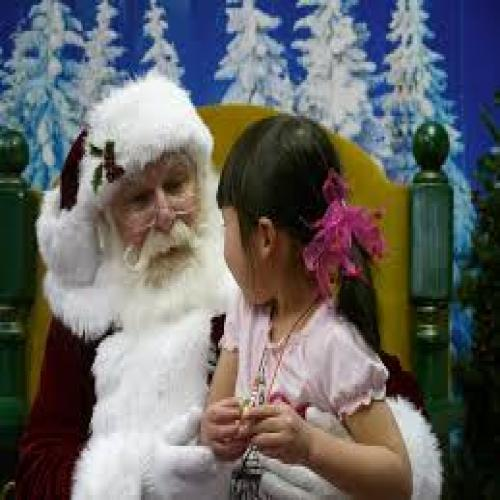Santa: (18, 72, 225, 500)
